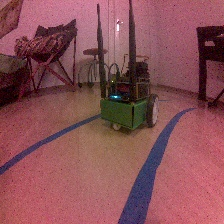rob: (99, 60, 160, 131)
